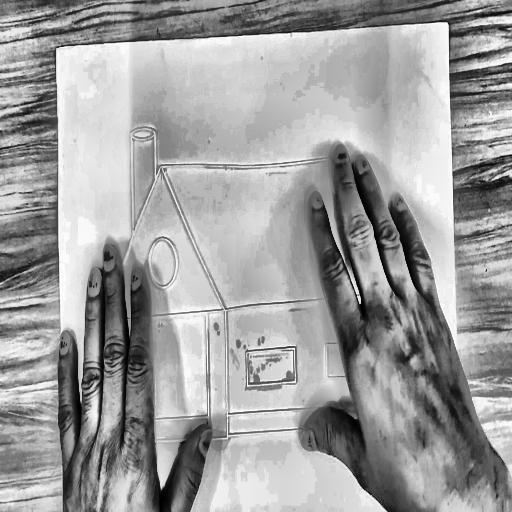house: (70, 98, 442, 463)
top_left: (52, 41, 62, 58)
top_right: (442, 15, 452, 31)
